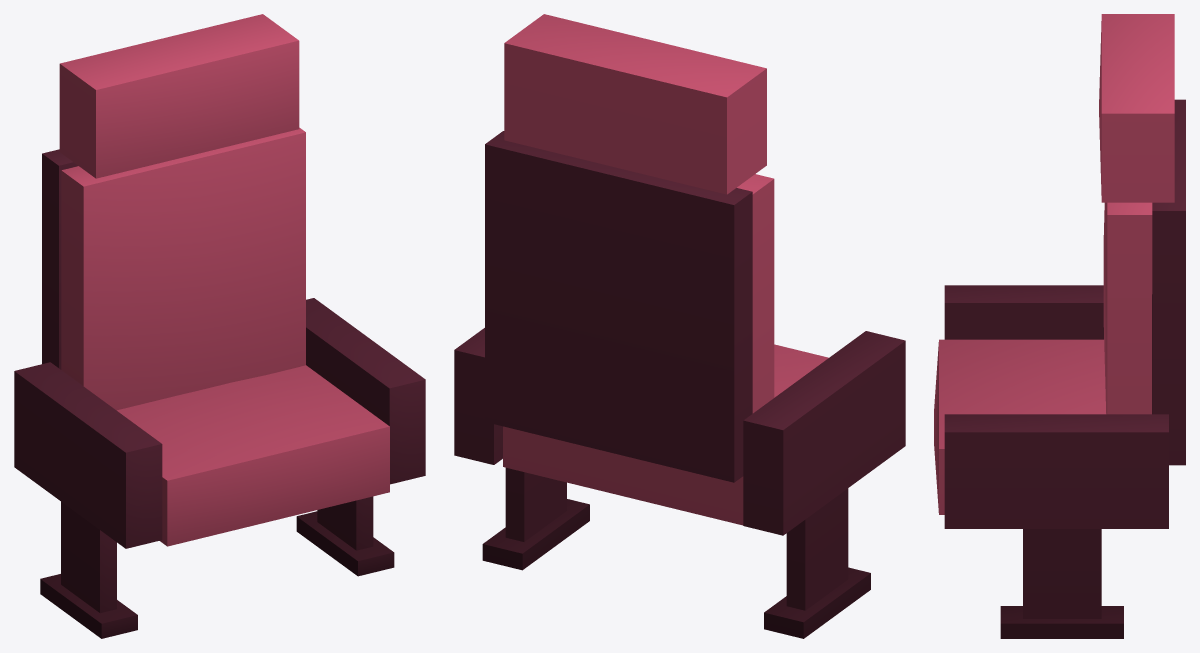
Rendered from standard_lod2.glb.
3 renders of one model, left to right at view 1: azimuth 30°, elevation 25°; view 2: azimuth 150°, elevation 25°; view 3: azimuth 270°, elevation 25°, orthographic. The views are drawn at different scales.
Visible parts, largest first — view 1: StandardSeat_LOD2; view 2: StandardSeat_LOD2; view 3: StandardSeat_LOD2.
Part boxes in pixels (<box>): StandardSeat_LOD2: <box>14,14,425,638</box>; StandardSeat_LOD2: <box>454,14,905,638</box>; StandardSeat_LOD2: <box>934,14,1185,638</box>.
Size of the model in its own units: 1.24 by 1.98 by 0.8973.
